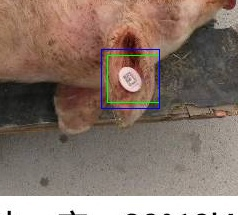text: (107, 55, 159, 102)
